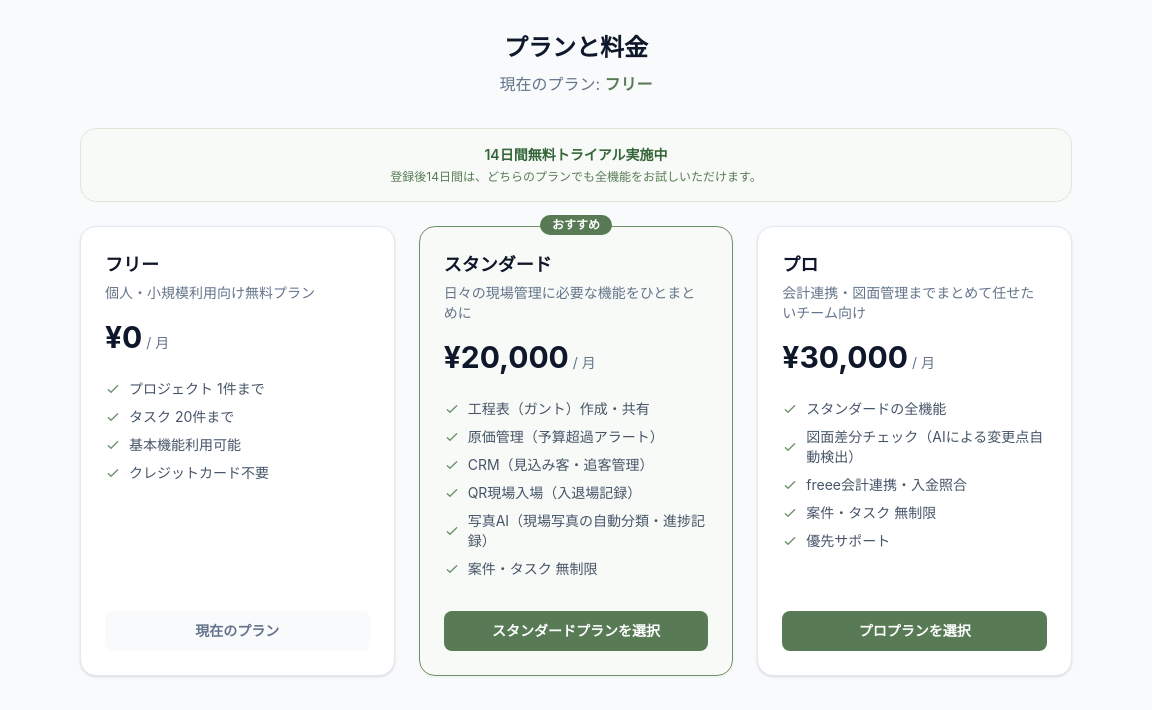
Test: PricingPage › Stripe未設定時にスタンダードプランを選択するとモーダルが表示される
What coordinates should you click on to do the following:
click the button "スタンダードプランを選択"
I would click on:
 (576, 631)
Its box is [444,611,708,651].
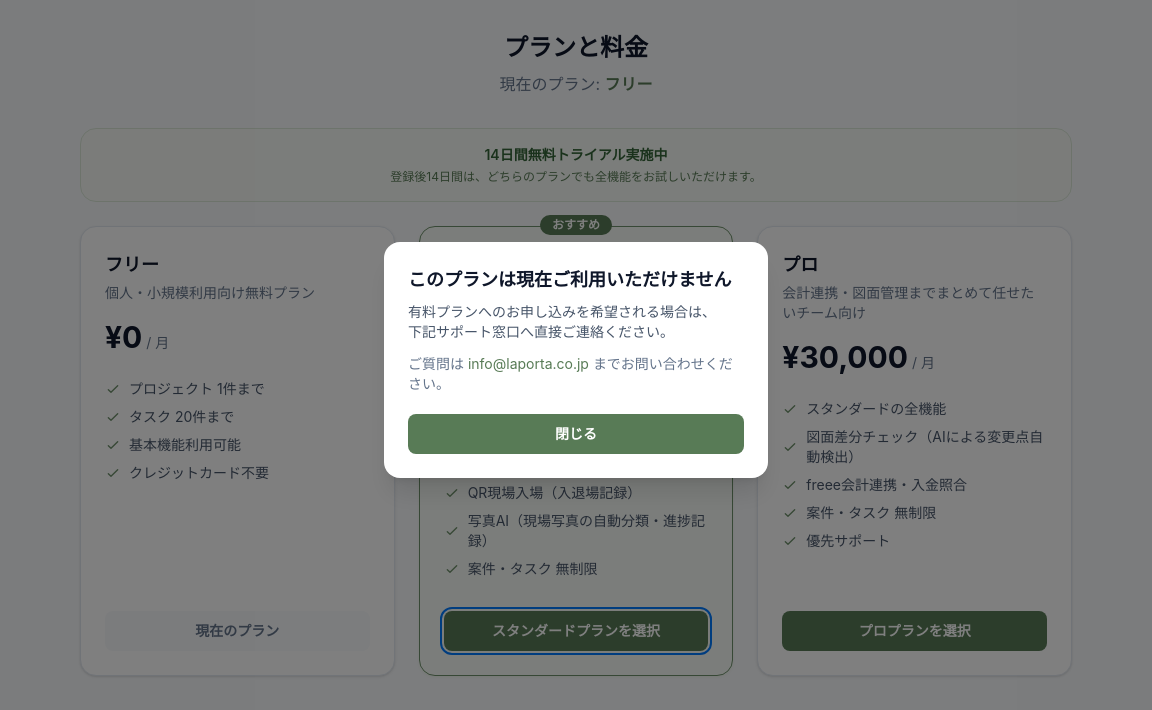
expect the heading "このプランは現在ご利用いただけません" is shown: met, box [408,266,744,294]
